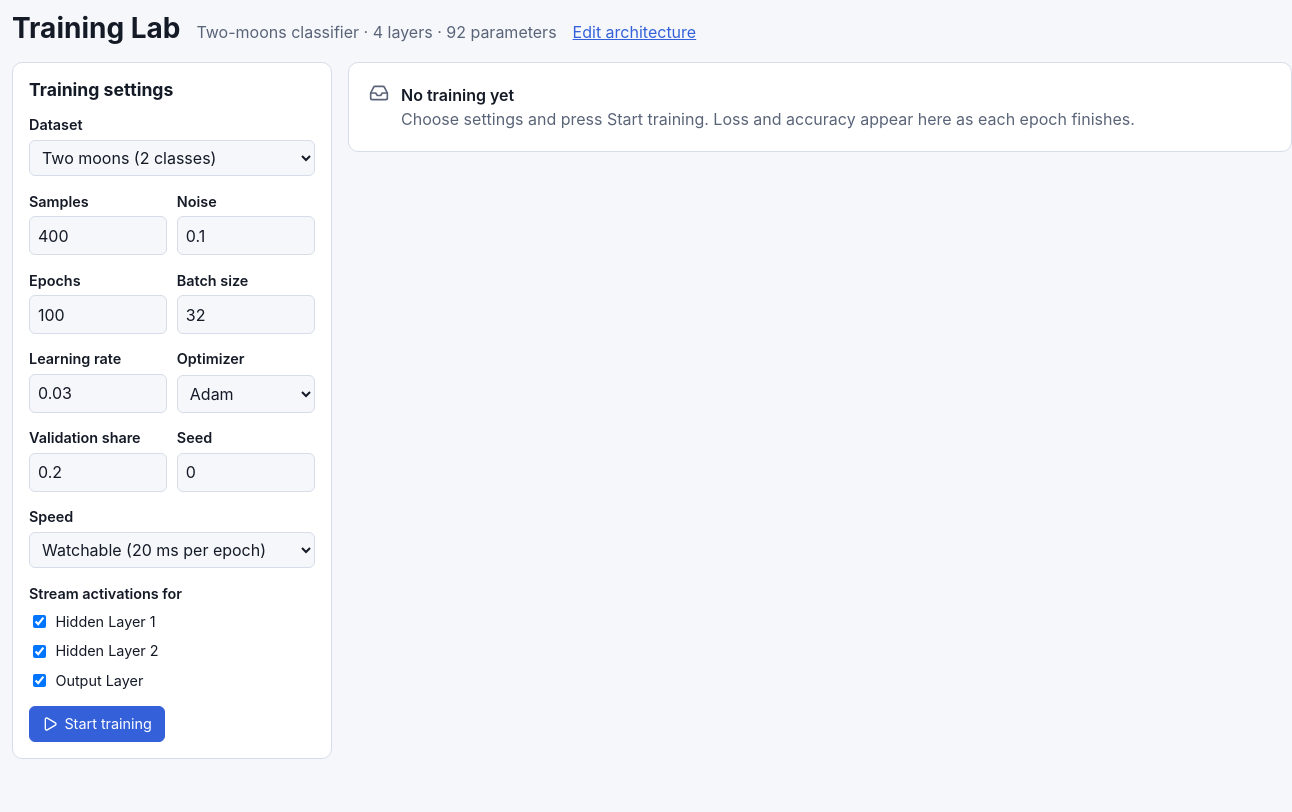
it: Training Lab › validates settings before starting
Expected: the button "Start training" is shown, [29,706,165,742]
Replace the text in the number field labelled "Learning rate" with "0" at (98,393), box [29,374,167,413]
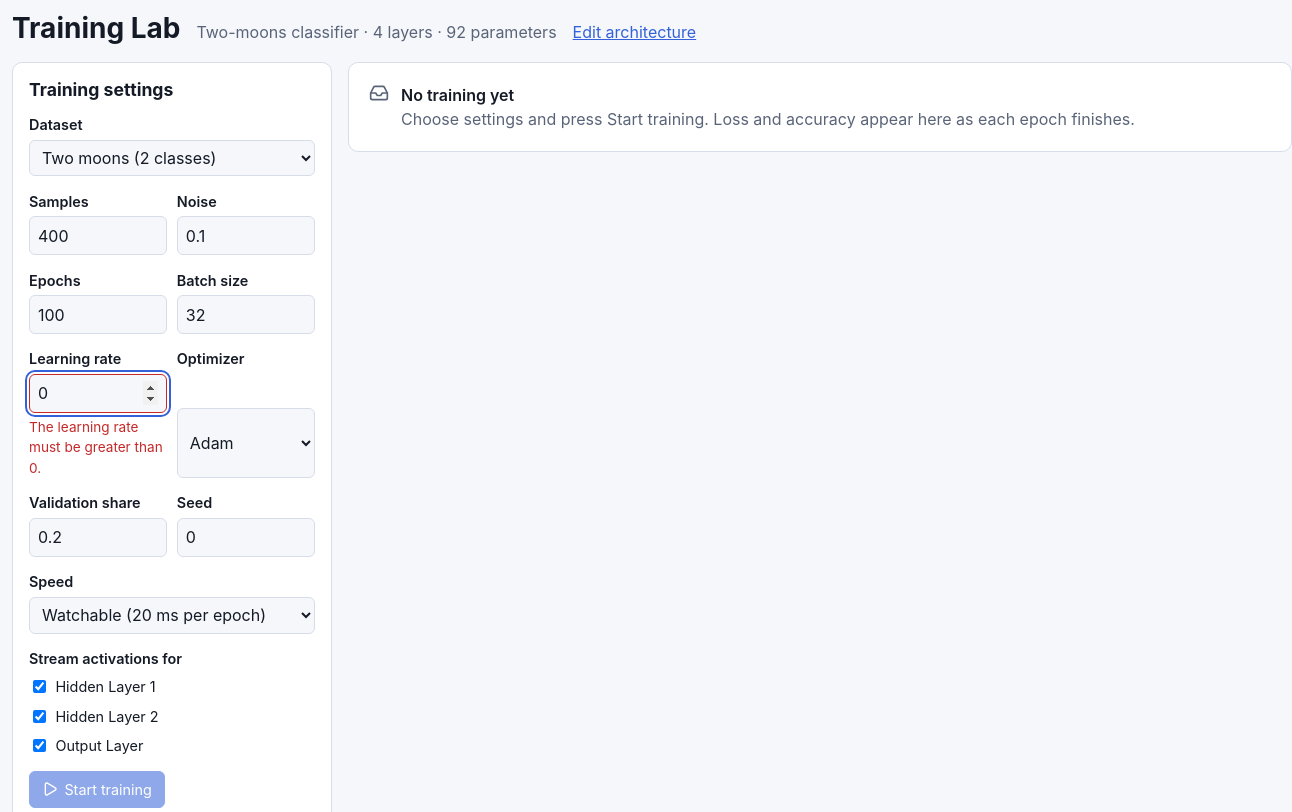
Expected: the button "Start training" is disabled, [29,771,165,808]
Expected: the text "The learning rate must be greater than 0." is shown, [29,417,167,478]
